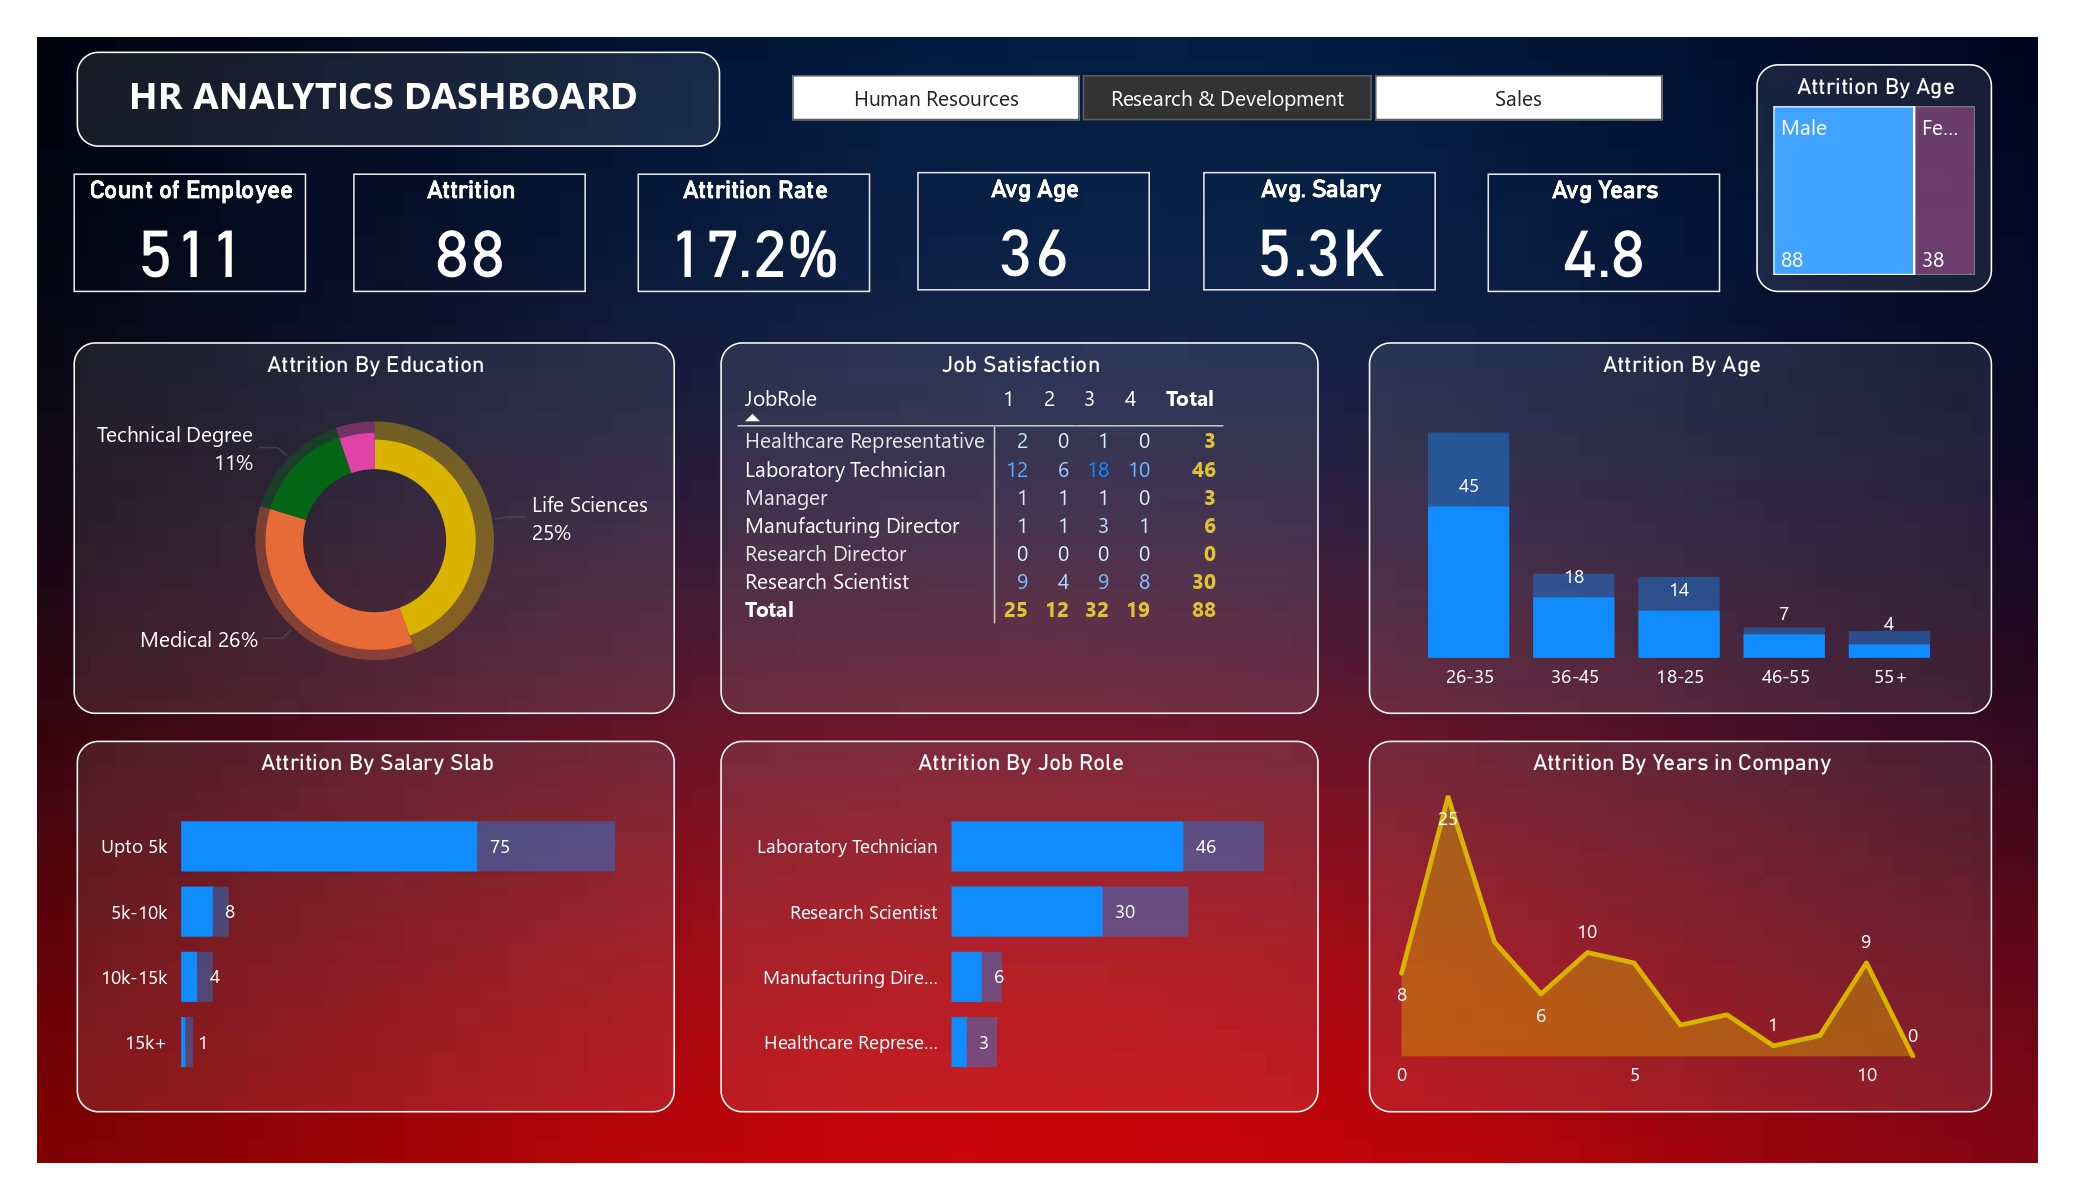

The dashboard page shown, as its layout file describes it:
{"tool":"powerbi","page":{"name":"Page 1","canvas":[1280,720],"ordinal":0},"visuals":[{"type":"card","title":"Count of Employee","fields":{"Values":["CountNonNull(HR_Analytics.EmpID)"]},"box":[22.7,86.9,149.3,75.6],"z":0},{"type":"card","title":"Attrition ","fields":{"Values":["Sum(HR_Analytics.AttritionCount)"]},"box":[202.2,86.9,149.3,75.6],"z":1000},{"type":"card","title":"Attrition Rate","fields":{"Values":["HR_Analytics.Attritionrate"]},"box":[383.6,86.9,149.3,75.6],"z":2000},{"type":"card","title":"Avg Age","fields":{"Values":["Avg(HR_Analytics.Age)"]},"box":[562.5,86.3,149.3,75.6],"z":3000},{"type":"card","title":"Avg. Salary","fields":{"Values":["Avg(HR_Analytics.MonthlyIncome)"]},"box":[745.8,86.3,149.3,75.6],"z":4000},{"type":"card","title":"Avg Years","fields":{"Values":["Avg(HR_Analytics.YearsAtCompany)"]},"box":[927.9,86.9,149.3,75.6],"z":5000},{"type":"donutChart","title":"Attrition By Education","fields":{"Category":["HR_Analytics.EducationField"],"Y":["Sum(HR_Analytics.AttritionCount)"]},"box":[22.7,194.6,385.5,238.1],"z":6000},{"type":"columnChart","title":"Attrition By Age","fields":{"Y":["Sum(HR_Analytics.AttritionCount)"],"Category":["HR_Analytics.AgeGroup"]},"box":[852.3,194.6,398.7,238.1],"z":7000},{"type":"pivotTable","title":"Job Satisfaction","fields":{"Rows":["HR_Analytics.JobRole"],"Columns":["HR_Analytics.JobSatisfaction"],"Values":["Sum(HR_Analytics.AttritionCount)"]},"box":[436.5,194.6,383.6,238.1],"z":8000},{"type":"barChart","title":"Attrition By Salary Slab","fields":{"Category":["HR_Analytics.SalarySlab"],"Y":["Sum(HR_Analytics.AttritionCount)"]},"box":[24.6,449.8,383.6,238.1],"z":8001},{"type":"barChart","title":"Attrition By Job Role","fields":{"Category":["HR_Analytics.JobRole"],"Y":["Sum(HR_Analytics.AttritionCount)"]},"box":[436.5,449.8,383.6,238.1],"z":8002},{"type":"areaChart","title":"Attrition By Years in Company ","fields":{"Category":["HR_Analytics.YearsAtCompany"],"Y":["Sum(HR_Analytics.AttritionCount)"]},"box":[852.3,449.8,398.7,238.1],"z":8003},{"type":"treemap","title":"Attrition By Age","fields":{"Group":["HR_Analytics.Gender"],"Values":["Sum(HR_Analytics.AttritionCount)"]},"box":[1099.9,17,151.2,145.5],"z":8004},{"type":"slicer","fields":{"Values":["HR_Analytics.Department"]},"box":[457.3,17,606.6,43.5],"z":8005},{"type":"textbox","box":[24.6,9.4,412,60.5],"z":8006}]}

Visuals, with their boxes in screenshot pixels (x1, y1, x2, y2):
"Count of Employee" card: bbox=(73, 173, 306, 291)
"Attrition " card: bbox=(353, 173, 587, 291)
"Attrition Rate" card: bbox=(637, 173, 870, 291)
"Avg Age" card: bbox=(916, 172, 1150, 290)
"Avg. Salary" card: bbox=(1203, 172, 1436, 290)
"Avg Years" card: bbox=(1487, 173, 1721, 291)
"Attrition By Education" donutChart: bbox=(73, 342, 675, 714)
"Attrition By Age" columnChart: bbox=(1369, 342, 1992, 714)
"Job Satisfaction" pivotTable: bbox=(720, 342, 1319, 714)
"Attrition By Salary Slab" barChart: bbox=(76, 740, 675, 1112)
"Attrition By Job Role" barChart: bbox=(720, 740, 1319, 1112)
"Attrition By Years in Company " areaChart: bbox=(1369, 740, 1992, 1112)
"Attrition By Age" treemap: bbox=(1756, 64, 1992, 291)
slicer - HR_Analytics.Department: bbox=(752, 64, 1700, 132)
textbox: bbox=(76, 52, 720, 147)
